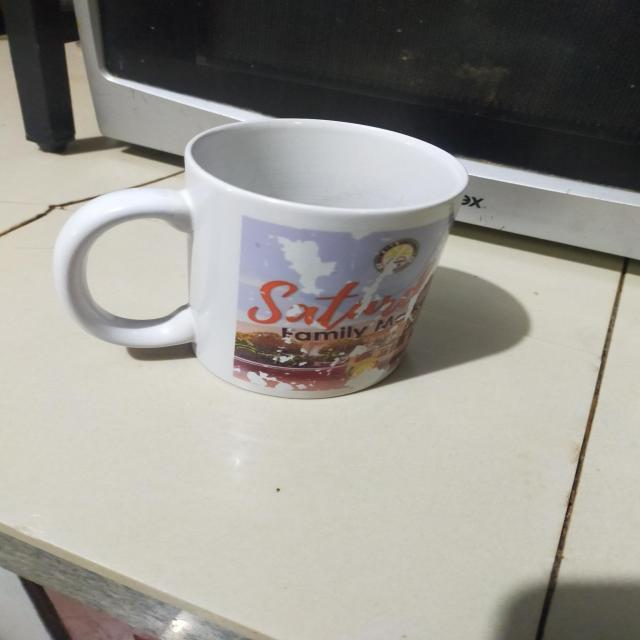taza: (51, 113, 470, 398)
